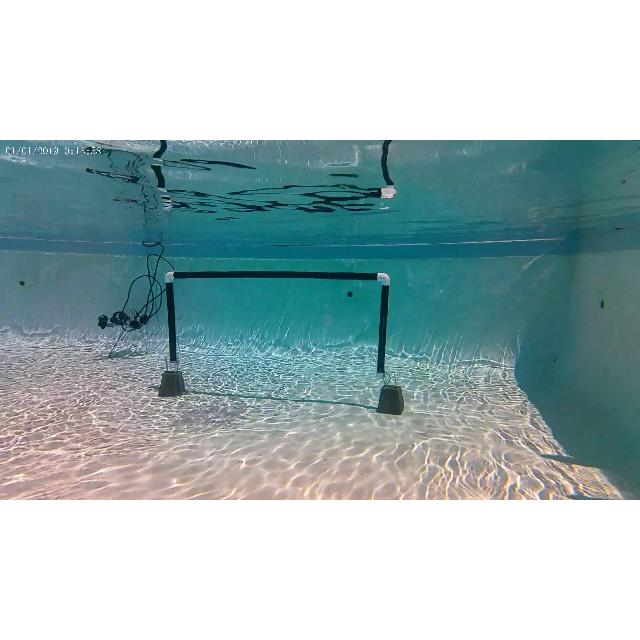prequal gate: (165, 270, 391, 380)
prequal gate leg l: (160, 268, 186, 379)
prequal gate leg r: (374, 269, 394, 387)
